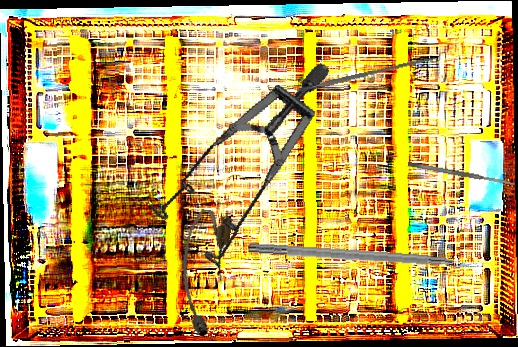Cannula: (171, 207, 234, 338)
Hook Surgical: (247, 241, 486, 273)
Scalpel Handle: (296, 55, 436, 93)
Spatula Surgical: (407, 160, 515, 188)
Speculum: (124, 60, 378, 283)
